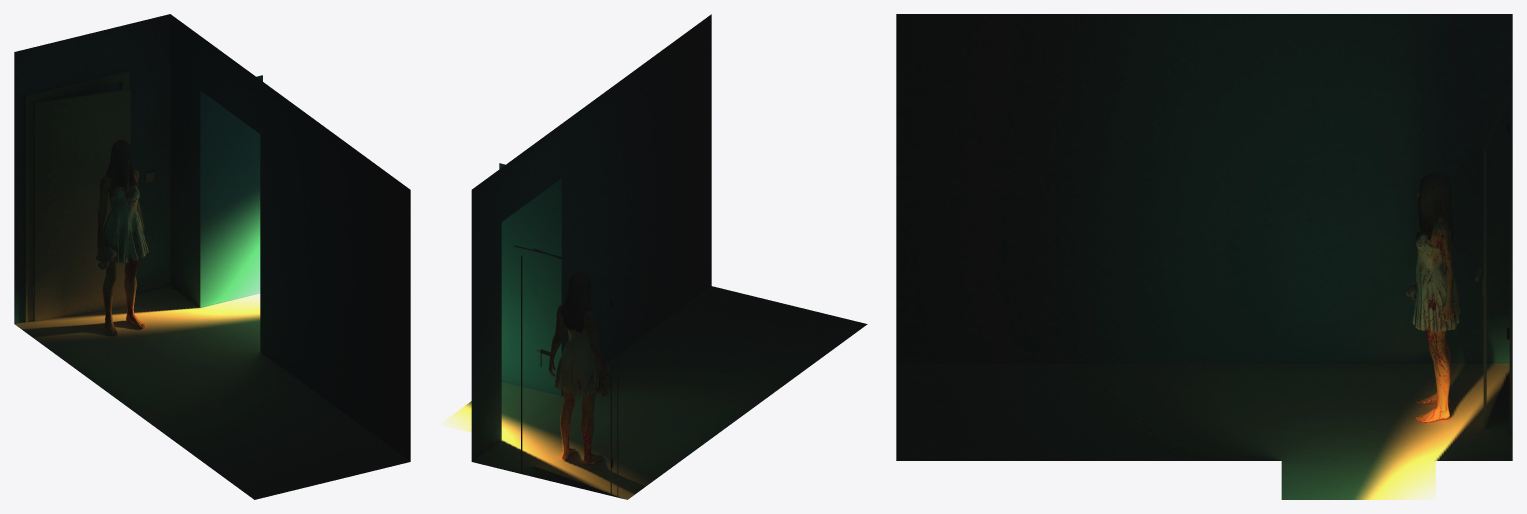
File: whispers.glb
The picture shows the model from 3 angles, left to right: view 1: azimuth 30°, elevation 25°; view 2: azimuth 150°, elevation 25°; view 3: azimuth 270°, elevation 25°; orthographic projection. The views are drawn at different scales.
Parts seen in each view (by area): view 1: Object_4, Object_3, Object_2; view 2: Object_4, Object_3, Object_2; view 3: Object_4, Object_3, Object_2.
Boxes of the visible parts, <box> form: Object_4: <box>14,14,410,461</box>; Object_3: <box>14,125,409,499</box>; Object_2: <box>105,140,136,194</box>; Object_4: <box>439,14,711,496</box>; Object_3: <box>472,286,867,499</box>; Object_2: <box>561,272,591,335</box>; Object_4: <box>896,14,1512,499</box>; Object_3: <box>896,122,1512,460</box>; Object_2: <box>1417,172,1453,247</box>.
Size of the model in its own units: 210 by 250 by 400.
Materials: 2 (2 with a texture image).
